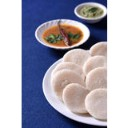idly: (53, 69, 83, 100), (63, 82, 86, 113), (86, 88, 107, 120), (87, 67, 106, 90), (63, 48, 89, 64), (92, 40, 107, 54)
